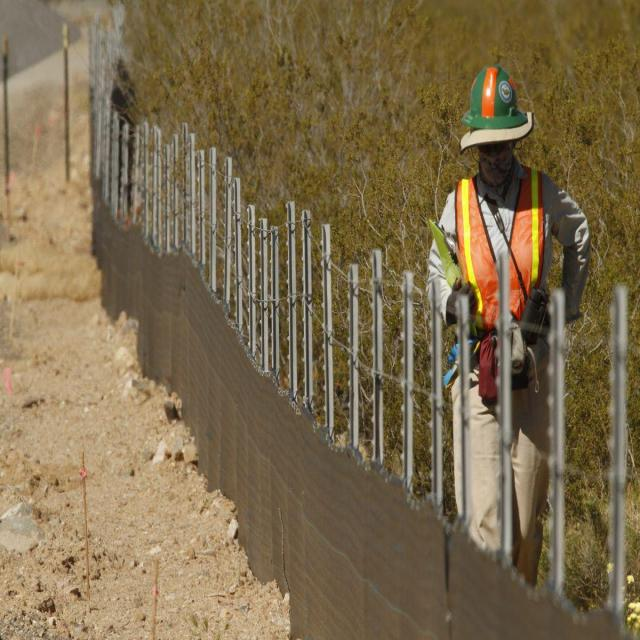Reflective-Jacket: (451, 165, 555, 338)
Safety-Helmet: (460, 60, 533, 150)
